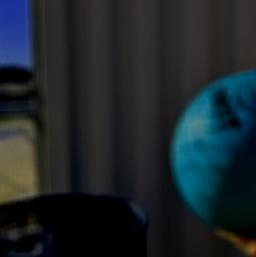algae: (167, 64, 256, 233)
